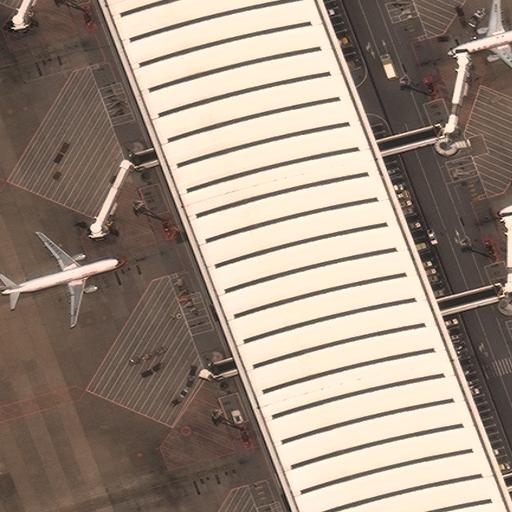Medium Civil Transport: (0, 231, 125, 325), (447, 0, 512, 77)
